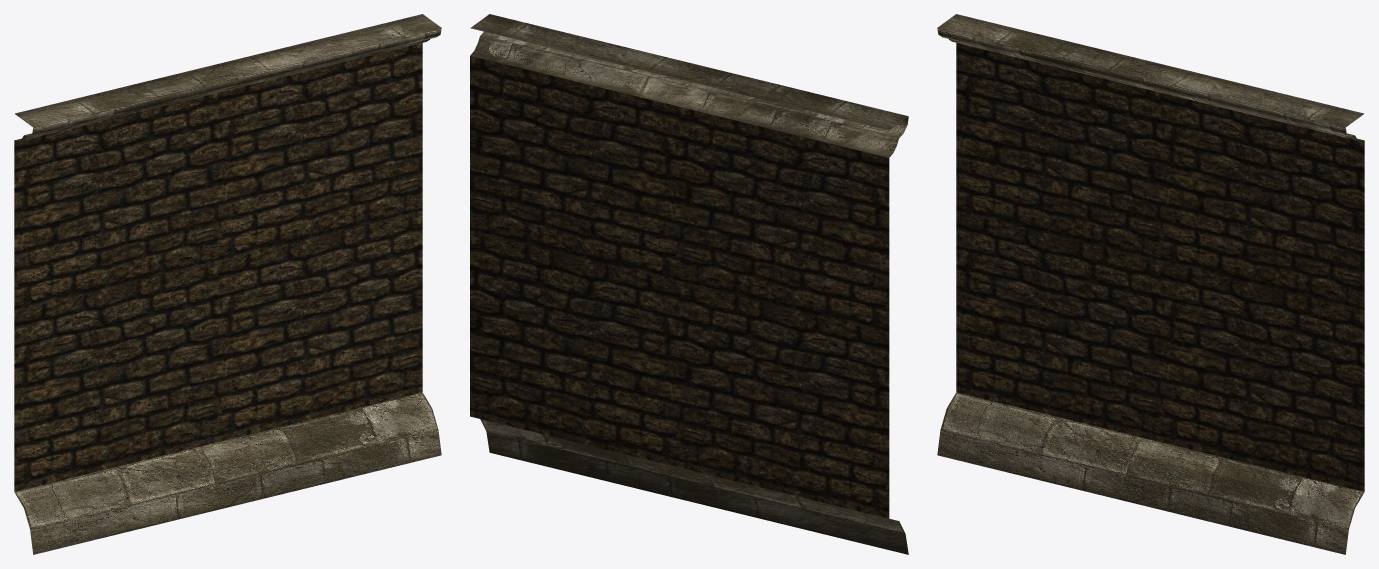
Rendered from cell_wall_worn.dae.
3 renders of one model, left to right at view 1: azimuth 30°, elevation 25°; view 2: azimuth 150°, elevation 25°; view 3: azimuth 330°, elevation 25°, orthographic. The views are drawn at different scales.
Visible parts, largest first — view 1: polySurface114, polySurface116; view 2: polySurface114, polySurface116; view 3: polySurface114, polySurface116.
Part boxes in pixels (x1,y1,x2,y2): polySurface114: (14, 43, 422, 491); polySurface116: (14, 14, 441, 554); polySurface114: (470, 55, 889, 518); polySurface116: (470, 14, 908, 554); polySurface114: (956, 43, 1364, 491); polySurface116: (937, 14, 1364, 554).
Size of what is drawn, in the model's own units: 4 by 4 by 0.3219.
